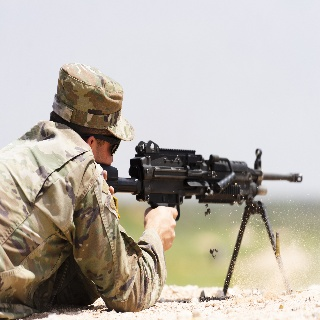rifle: (101, 140, 303, 296)
